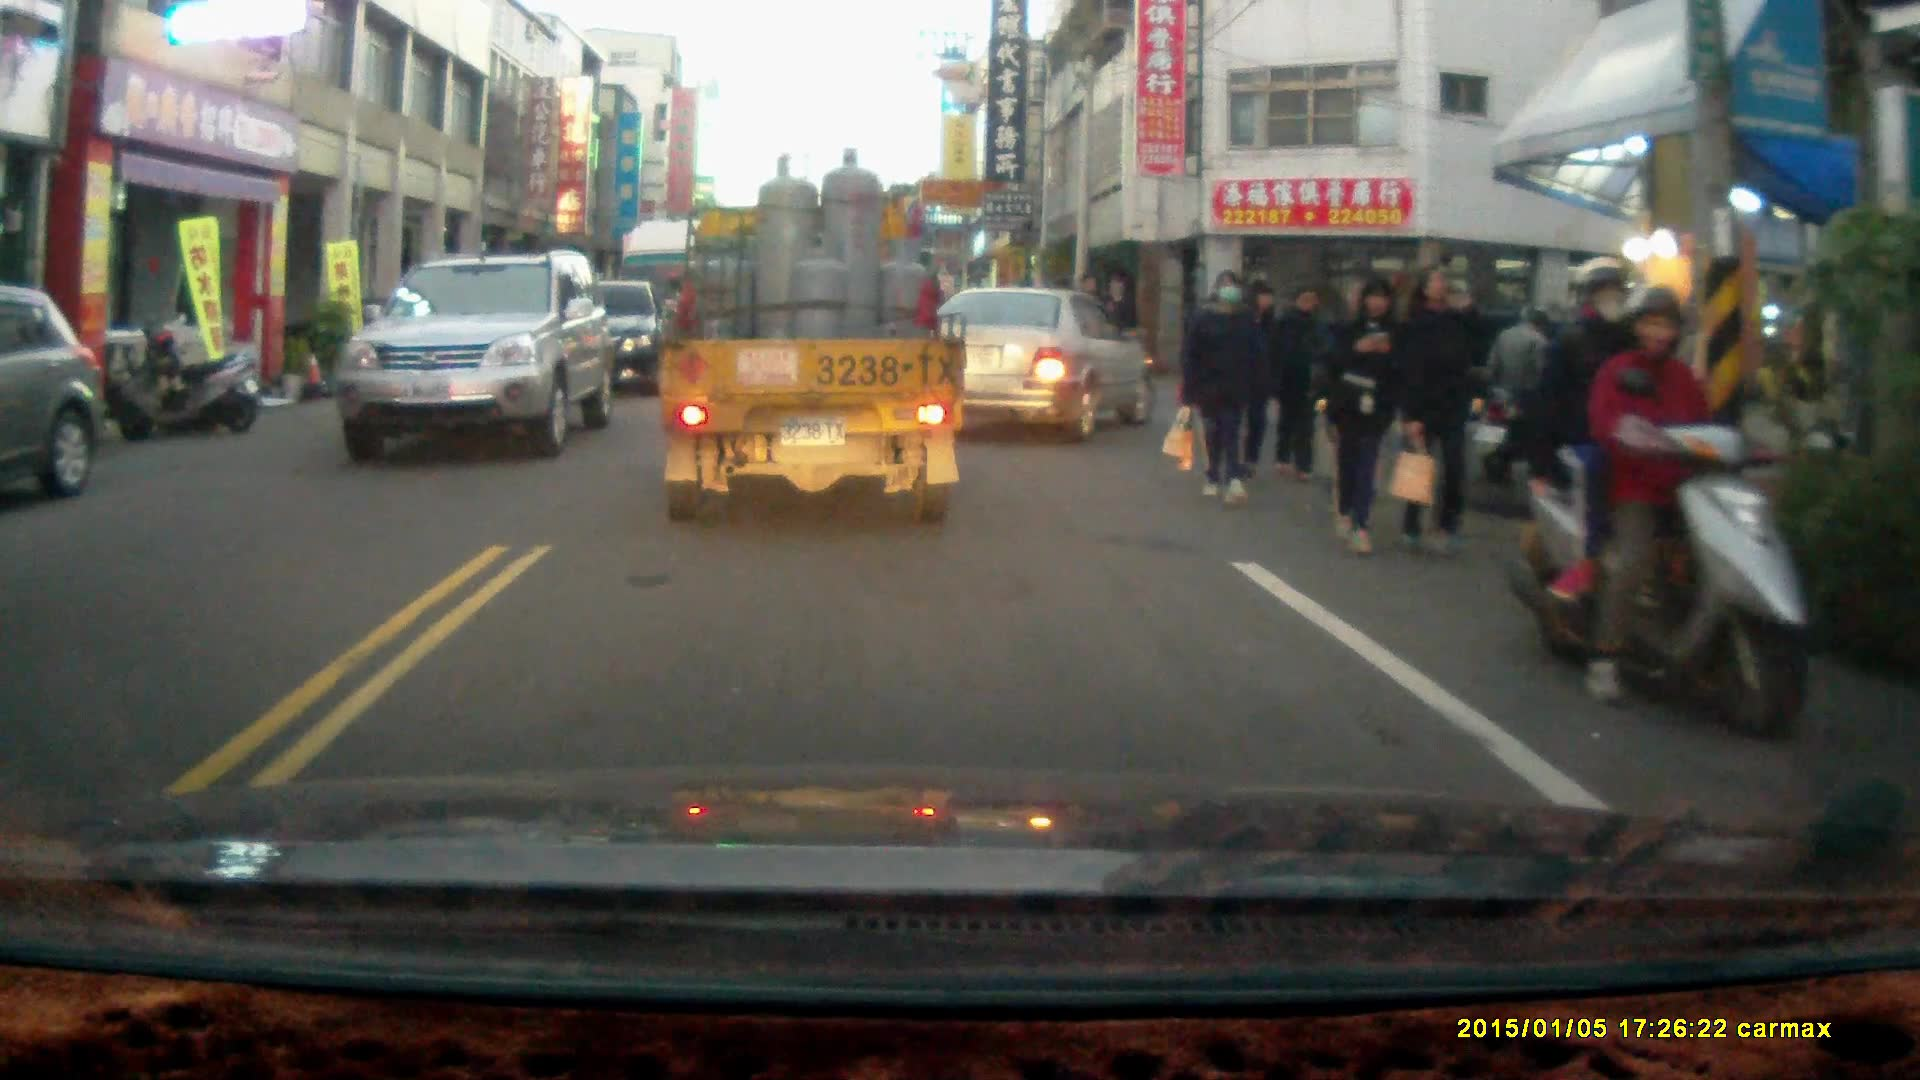pedestrian: (1387, 263, 1478, 557), (1318, 271, 1403, 557), (1185, 270, 1259, 505), (1267, 277, 1336, 478), (1230, 279, 1285, 470)
rider: (1506, 251, 1817, 746), (1480, 304, 1586, 493)
vehicle: (660, 145, 970, 525), (338, 251, 620, 469), (938, 287, 1145, 442), (2, 283, 111, 517)
